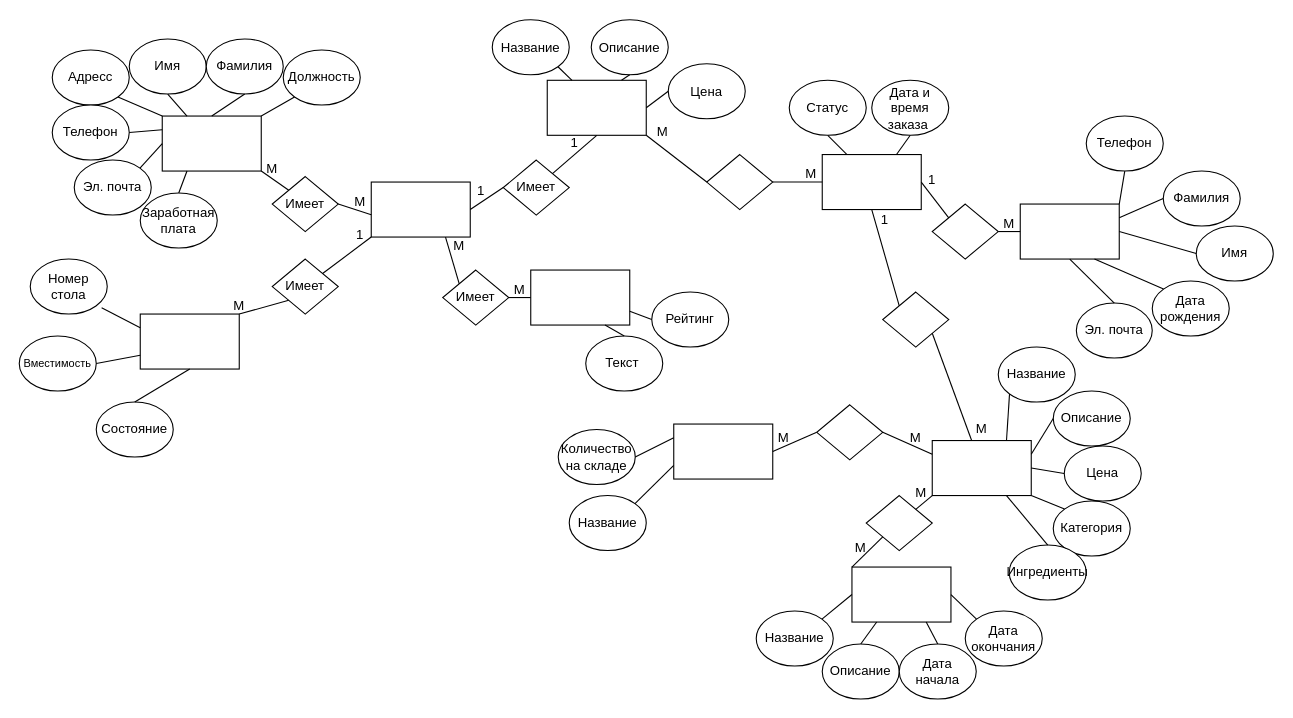
Some shapes in this 1293 by 718 pixel diagram are drawn without their labels. Here are the shapes that lost their labels. From the top down, the centre of each, then its label:
point 596,107: Меню
point 211,143: Сотрудник
point 871,181: Заказы
point 420,209: Ресторан
point 1069,231: Клиент
point 580,297: Отзывы
point 189,341: Столы
point 723,451: Ингридиент
point 981,467: Блюдо
point 901,594: Акция
